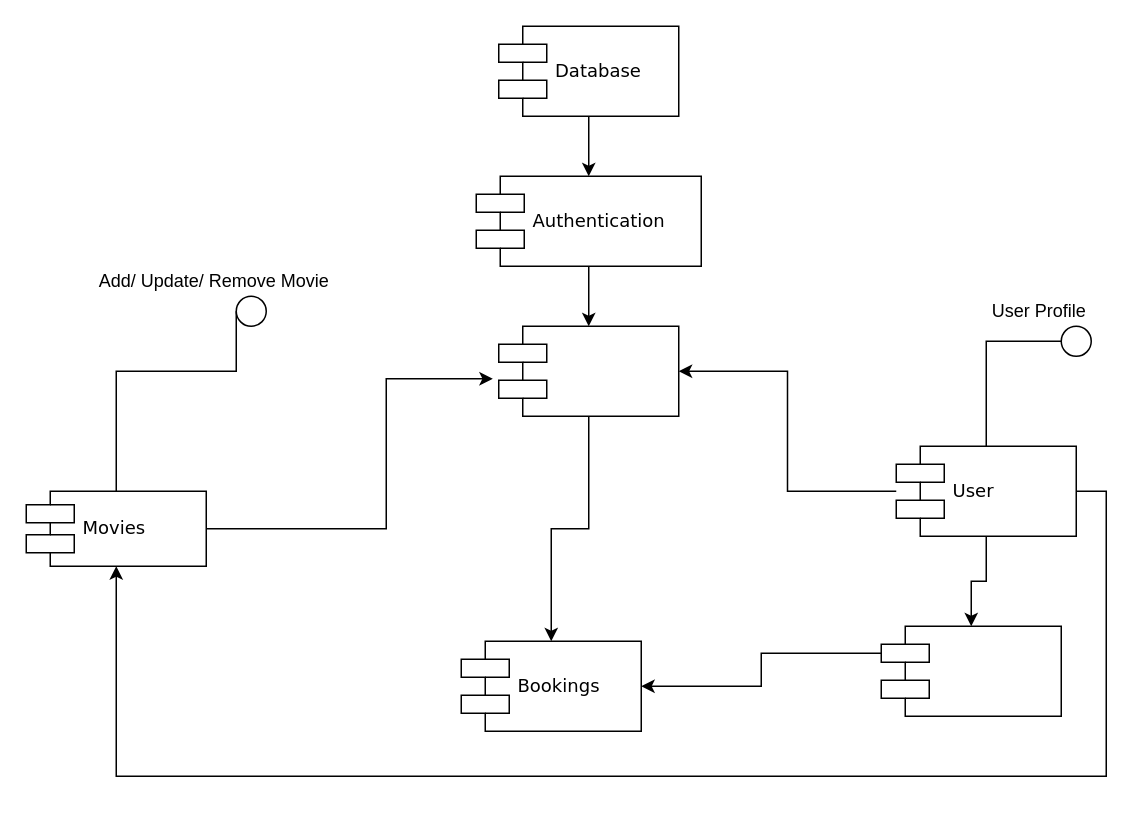
Some shapes in this 1145 by 815 pixel diagram are drawn without their labels. The centre of each missing label's shape, as x and y in pixels:
"Admin" goes at [588,370].
"Book Movie" goes at [970,670].
